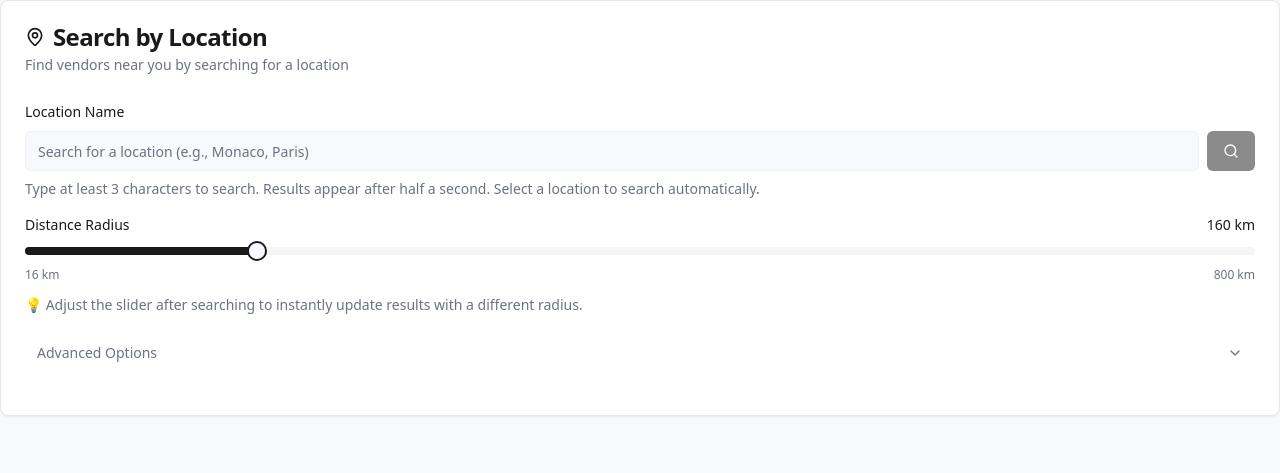
Test case: LocationSearchFilter › Reset Functionality › should show reset button after search is performed
The image size is (1280, 473).
In the field labelled "Location Name": [612, 151] box [25, 131, 1199, 171], type "Monaco"
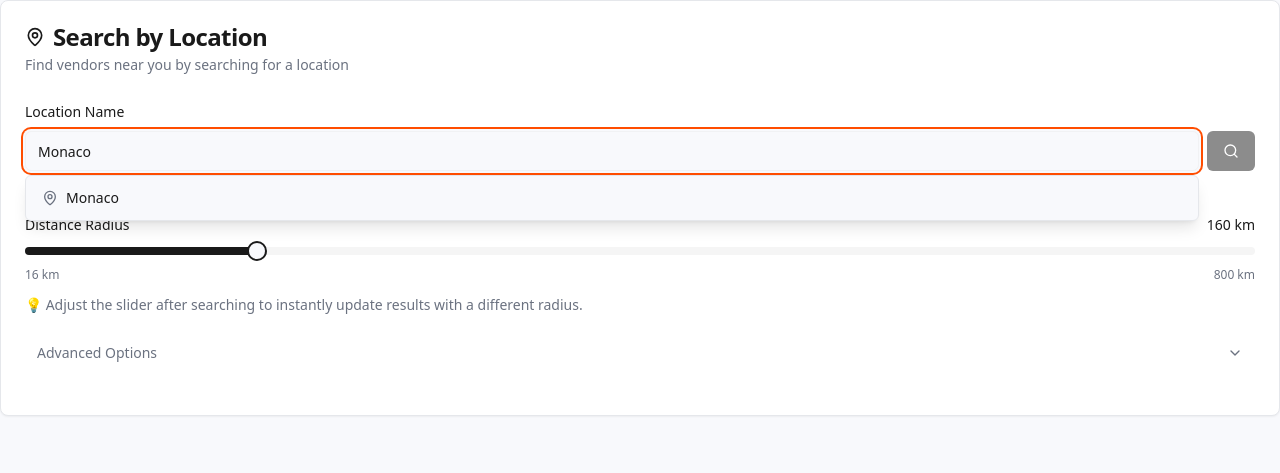
Expected: the list with test id "location-results-dropdown" is shown
Click the option "Monaco": [92, 198] box [26, 176, 1198, 220]
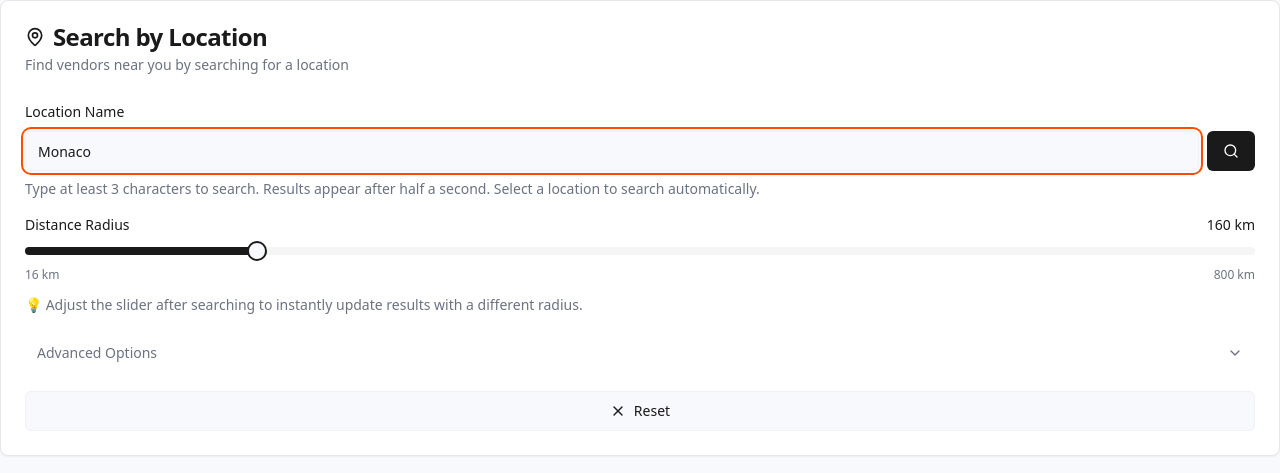
Expected: the button "Reset" is shown, [25, 391, 1255, 431]
